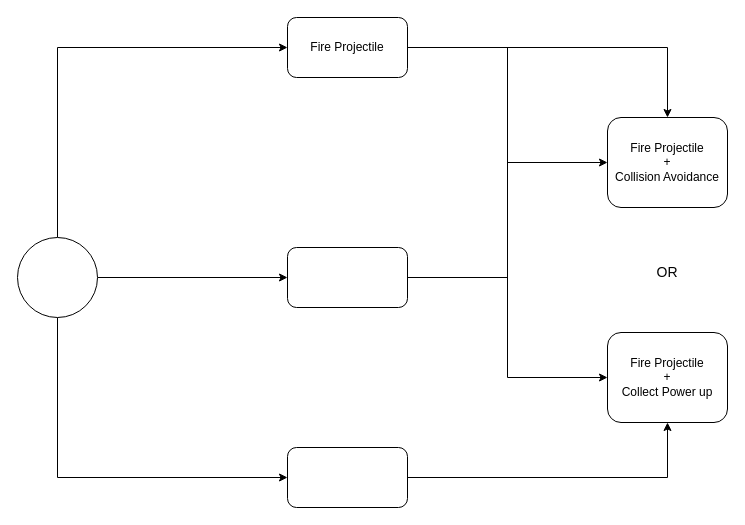
Some shapes in this 745 by 525 pixel diagram are drawn without their labels. The shapes that lost their labels are listed below. From the top down, each one's box as (x1, y1, x2, y2) in pixels, then its label:
(286, 246, 408, 308): Collision Avoidance
(286, 446, 408, 508): Collect Power up
